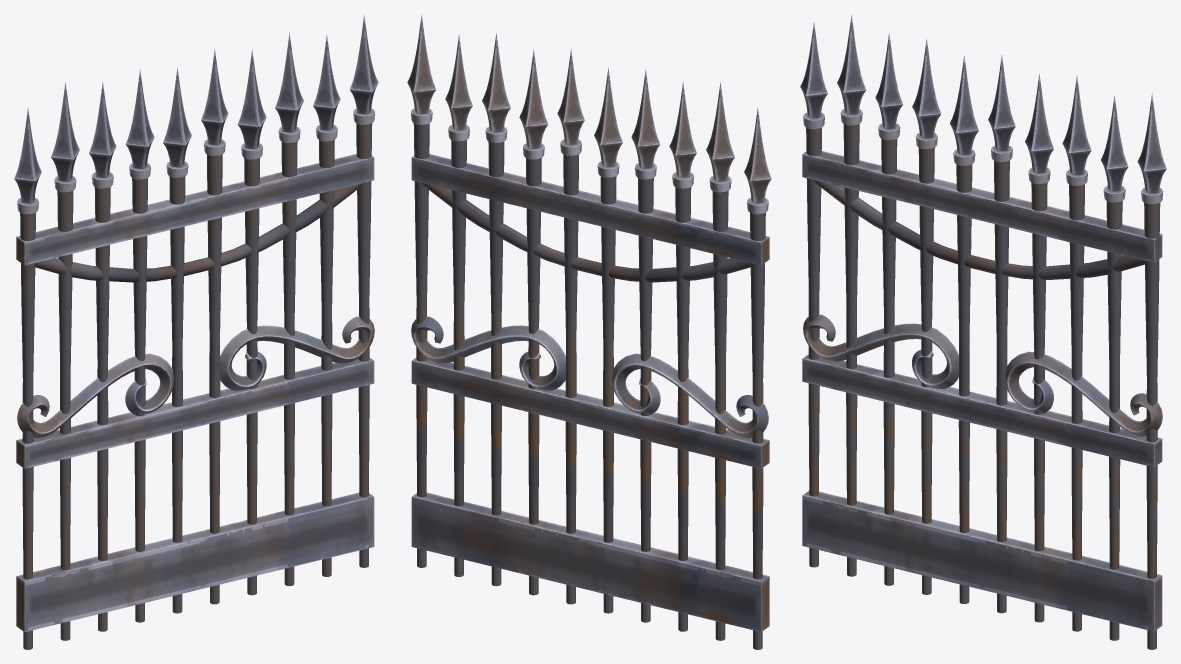
File: Prop_MetalFence_Ornament.glb
3 views of the same model, side by side, from view 1: azimuth 30°, elevation 25°; view 2: azimuth 150°, elevation 25°; view 3: azimuth 330°, elevation 25° (orthographic).
Parts seen in each view (by area): view 1: Prop_MetalFence_Ornament; view 2: Prop_MetalFence_Ornament; view 3: Prop_MetalFence_Ornament.
Boxes of the visible parts, box(x1,y1,x2,y2) form: Prop_MetalFence_Ornament: box(14, 14, 378, 649); Prop_MetalFence_Ornament: box(407, 14, 771, 649); Prop_MetalFence_Ornament: box(800, 15, 1166, 649).
Size of the model in its own units: 1.95 by 2.85 by 0.156.
1 material, 1 textured.
